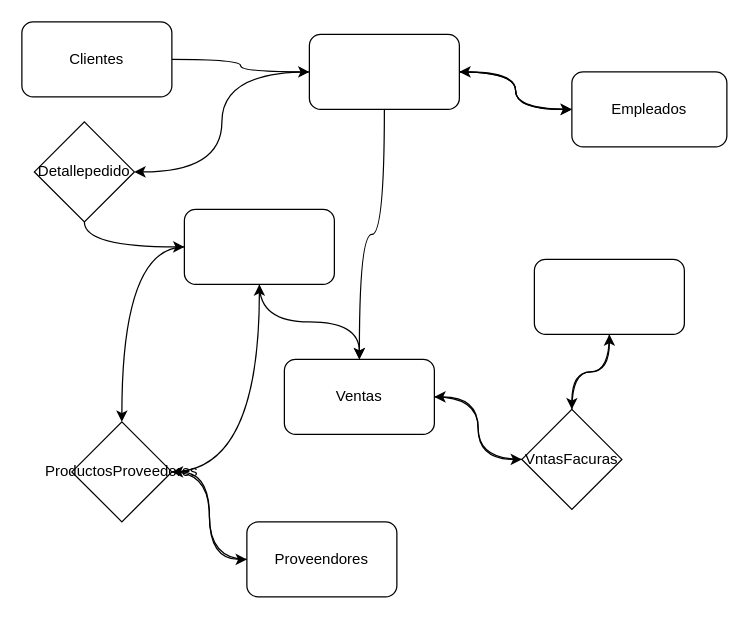
This 749x619 diagram has some shape labels left out. The shapes that lost their labels are listed below. From the top down, each one's centre as x and y in pixels, then its label:
point (383, 71): Pedidos
point (258, 246): Productos
point (608, 296): Facturas
